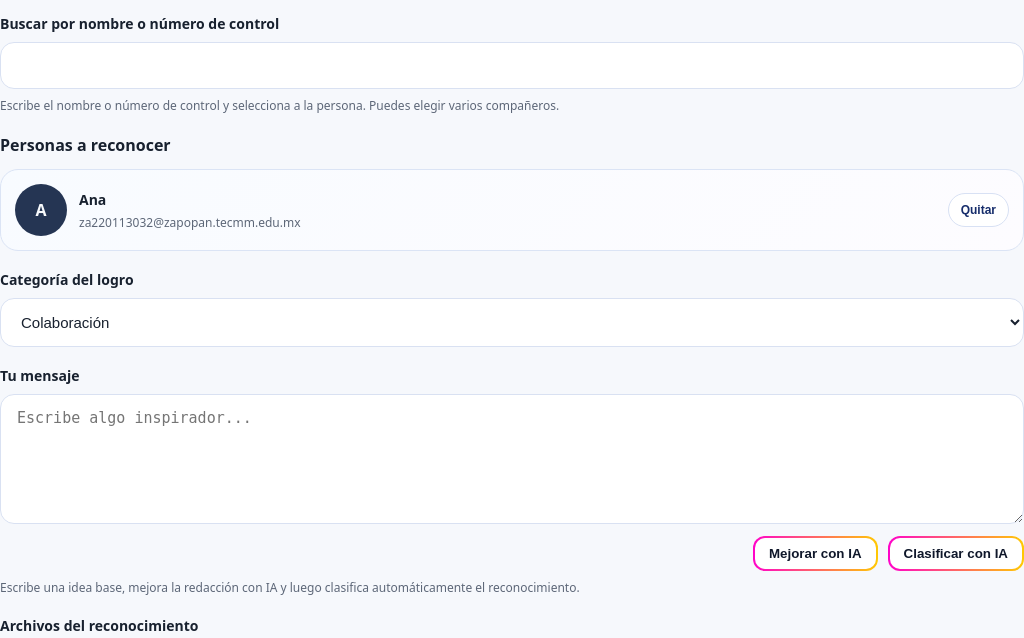
it: allows removing a preselected person without sending to them
Click the button with aria-label "Quitar a Ana".
click(978, 210)  # box [948,193,1009,227]
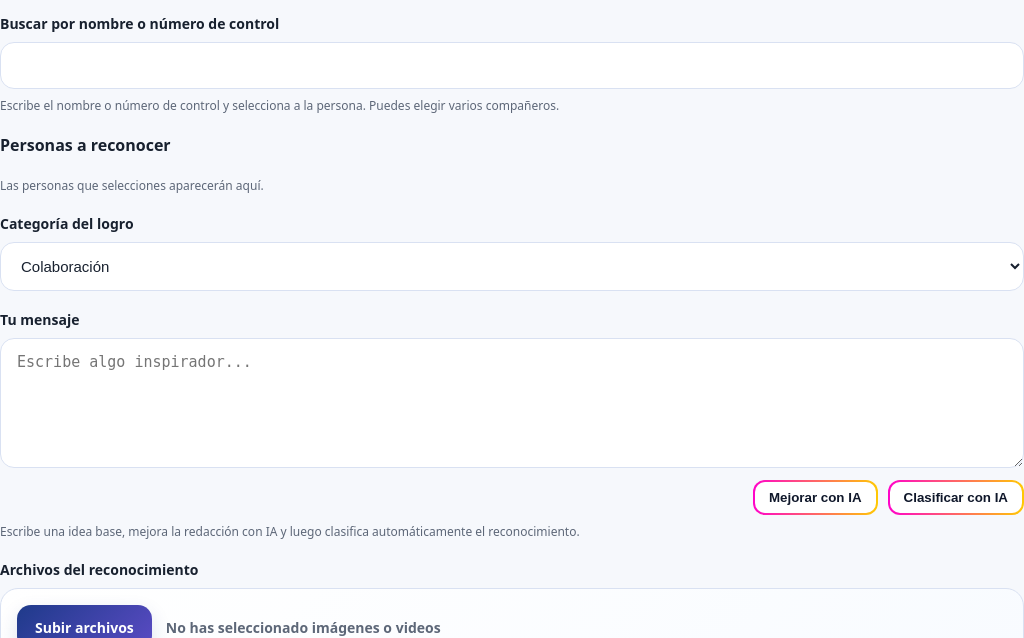
Type "Gracias por apoyar al equipo" into the text box with placeholder "Escribe algo inspirador...".
click(512, 403); type("Gracias por apoyar al equipo")  # box [0,338,1023,468]
(page scrolled)
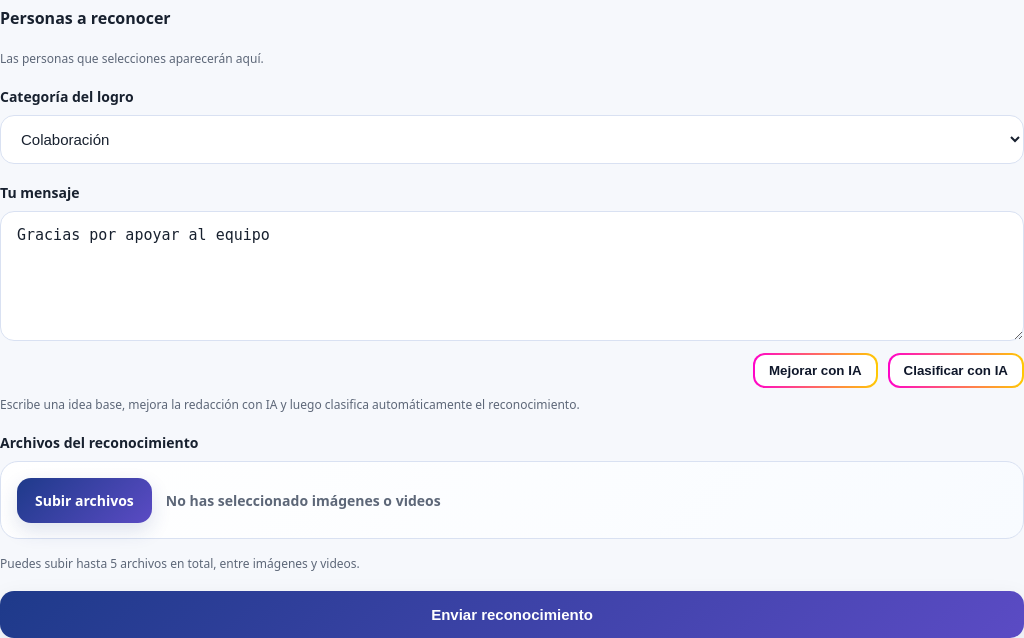
Click the button "Enviar reconocimiento".
click(512, 615)  # box [0,591,1023,637]
(page scrolled)
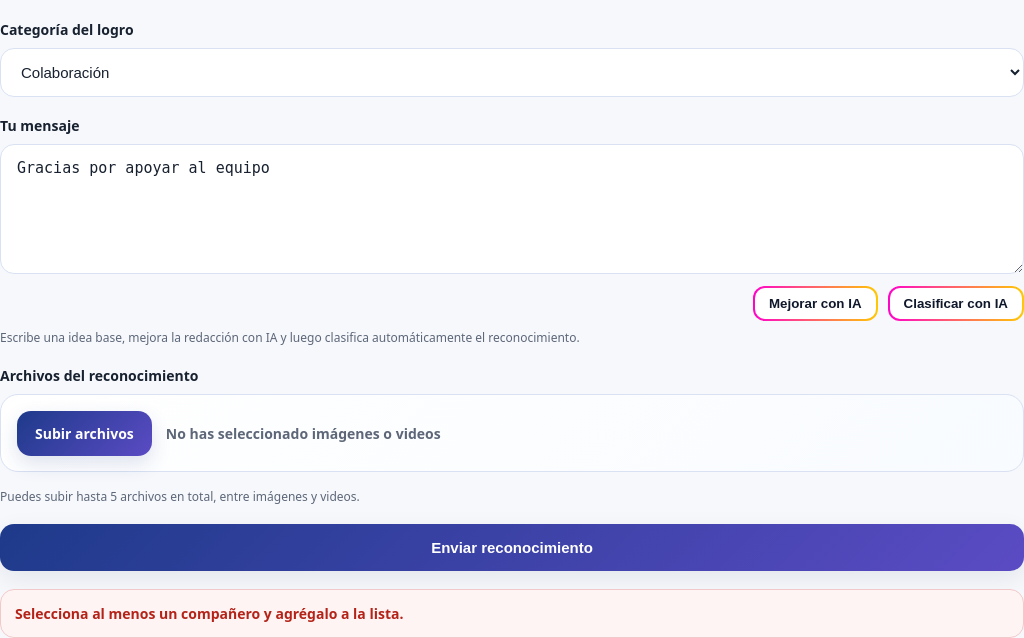
Expected: the text "Selecciona al menos un compañero y agrégalo a la lista." is shown, [0,589,1023,637]
